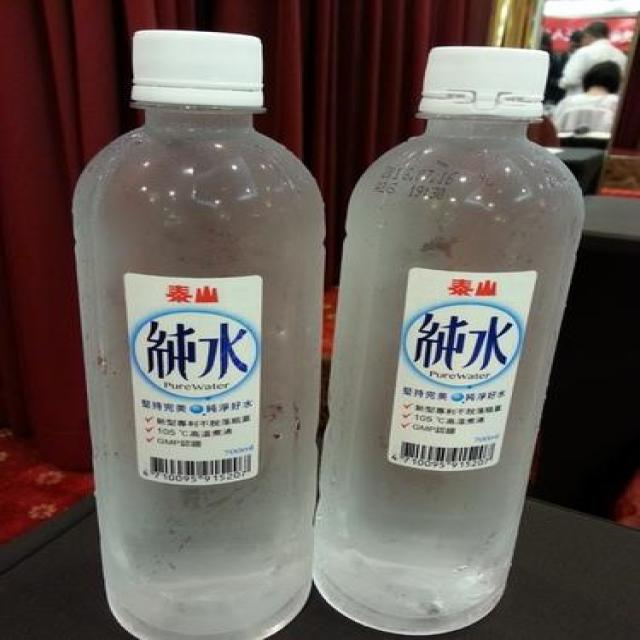bottle: (316, 45, 592, 639), (68, 27, 334, 640)
